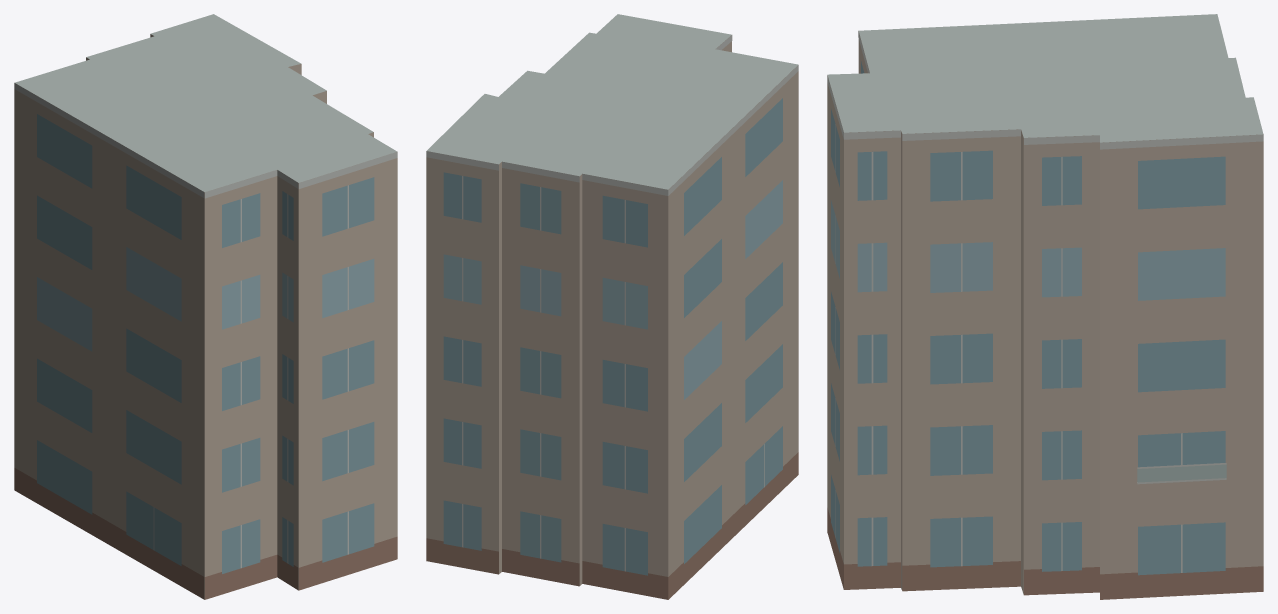
File: survey-upis-32705081.glb
3 renders of one model, left to right at view 1: azimuth 30°, elevation 25°; view 2: azimuth 150°, elevation 25°; view 3: azimuth 270°, elevation 25°, orthographic. The views are drawn at different scales.
Parts seen in each view (by area): view 1: survey-upis-32705081.tmp; view 2: survey-upis-32705081.tmp; view 3: survey-upis-32705081.tmp.
Part boxes in pixels (x1,y1,x2,y2): survey-upis-32705081.tmp: (14, 14, 397, 599); survey-upis-32705081.tmp: (426, 14, 798, 599); survey-upis-32705081.tmp: (827, 14, 1263, 599).
Bounding box in the file's own units: 9.57 × 15.85 × 13.71.
